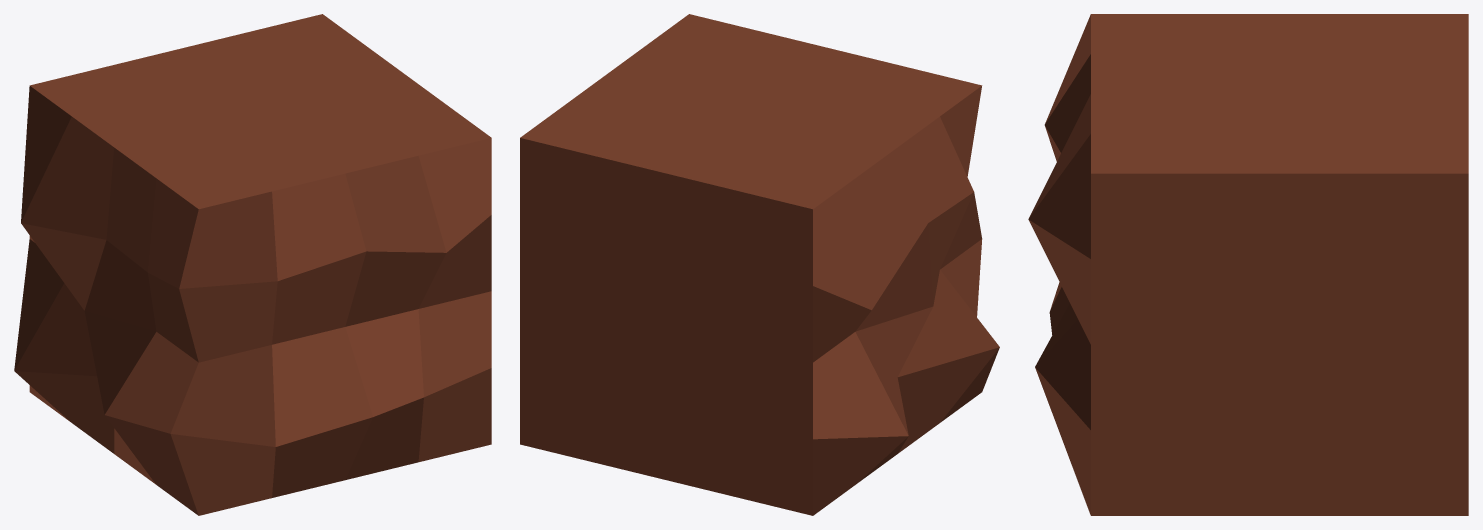
Rendered from MiddleCorner.fbx.
3 renders of one model, left to right at view 1: azimuth 30°, elevation 25°; view 2: azimuth 150°, elevation 25°; view 3: azimuth 270°, elevation 25°, orthographic. The views are drawn at different scales.
Parts seen in each view (by area): view 1: Cube; view 2: Cube; view 3: Cube.
Part boxes in pixels (box(x1,y1,x2,y2)): Cube: box(14, 14, 491, 515); Cube: box(520, 14, 999, 515); Cube: box(1028, 14, 1468, 515).
Size of the model in its own units: 238 by 200 by 233.
